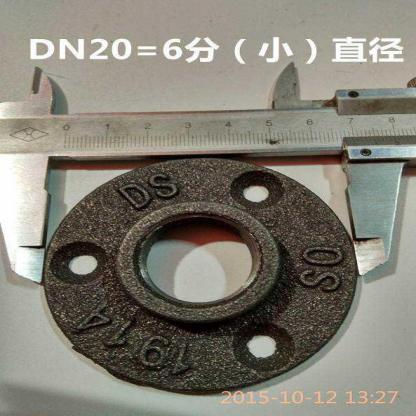FOD: (38, 155, 363, 398)
